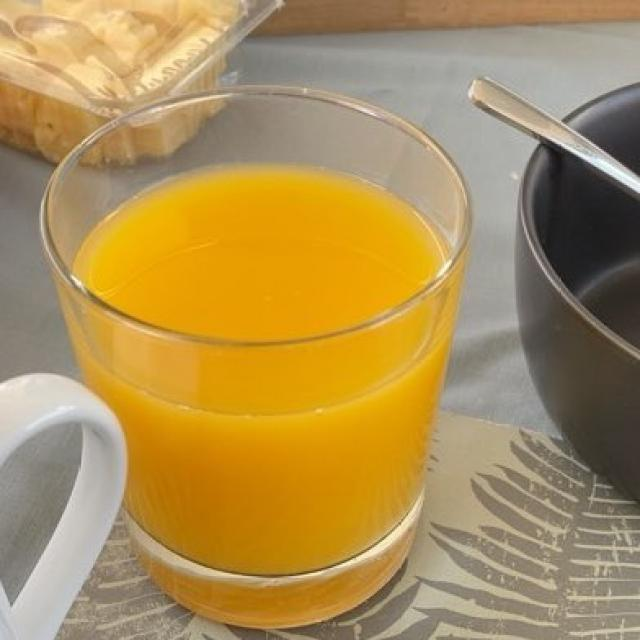juice: (71, 171, 447, 575)
